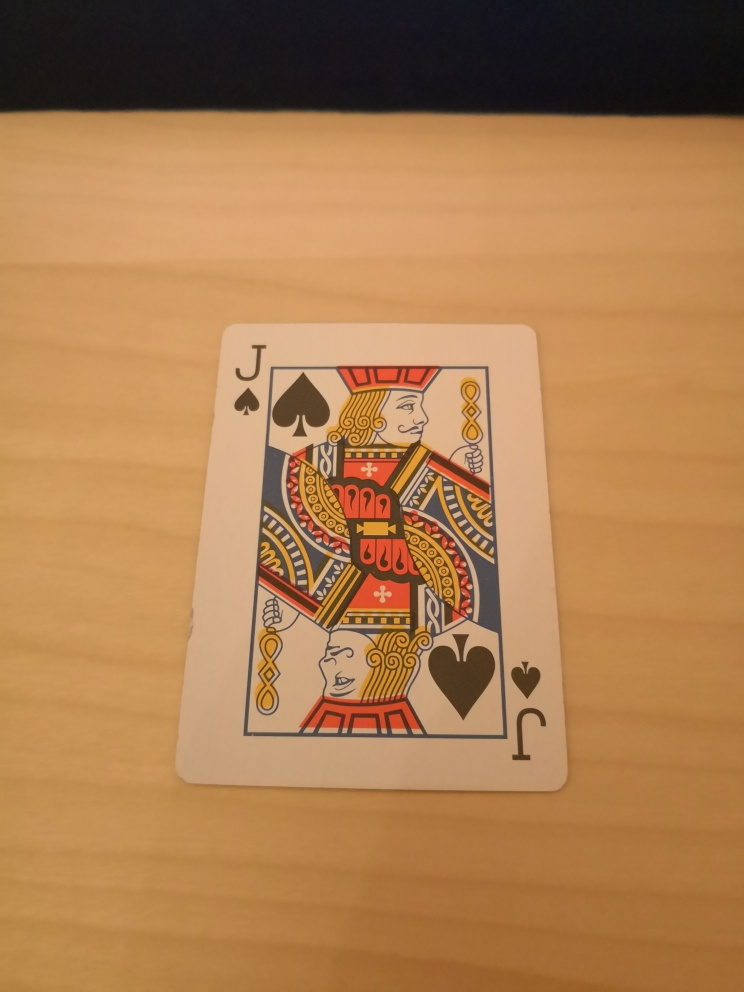jack: (175, 323, 569, 793)
